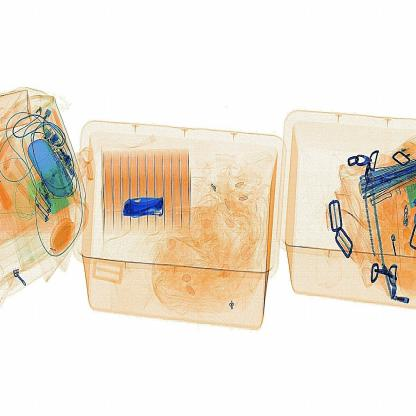knife: (116, 188, 167, 218)
